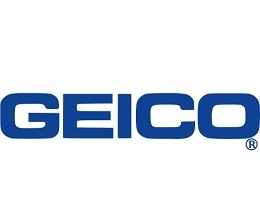Geico: (3, 89, 257, 140)
